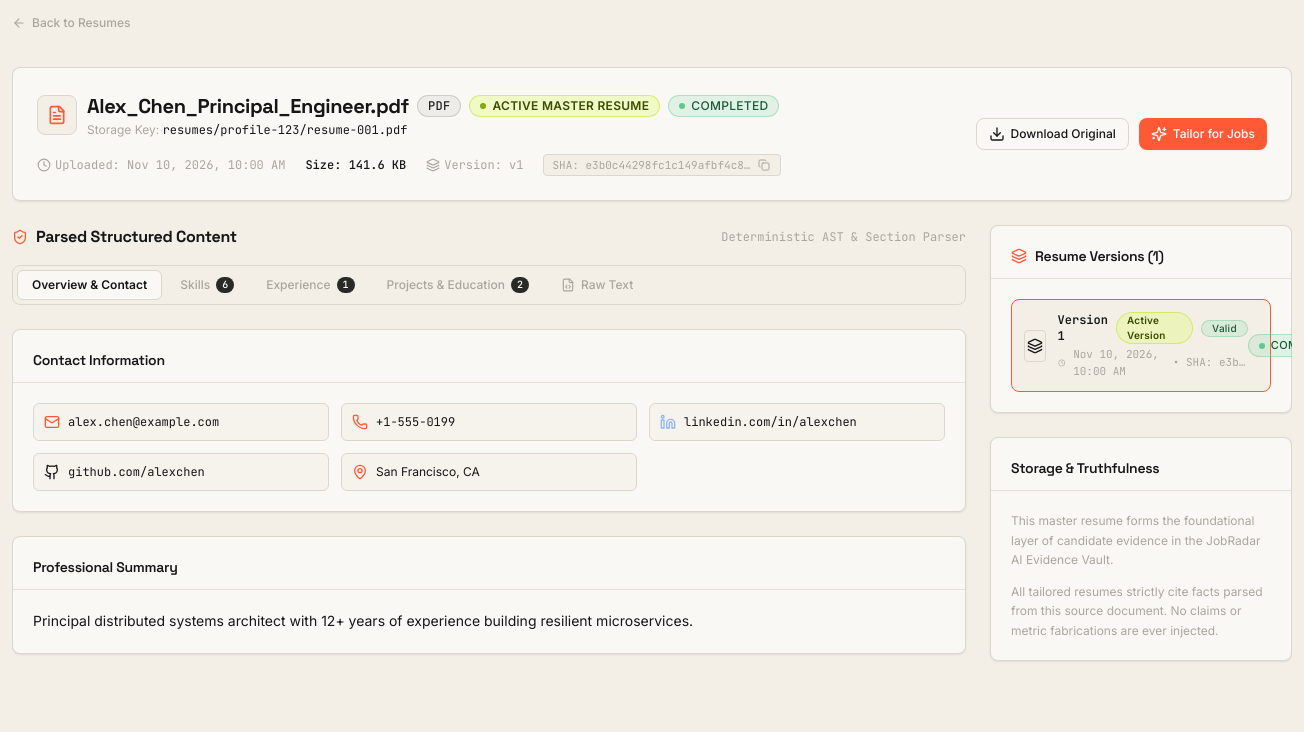
Test: ResumeDetailPage Integration › switches tabs to inspect parsed work experience
This screenshot has width=1304, height=732.
Click the button "Experience 1": (310, 285) [252,271,369,299]
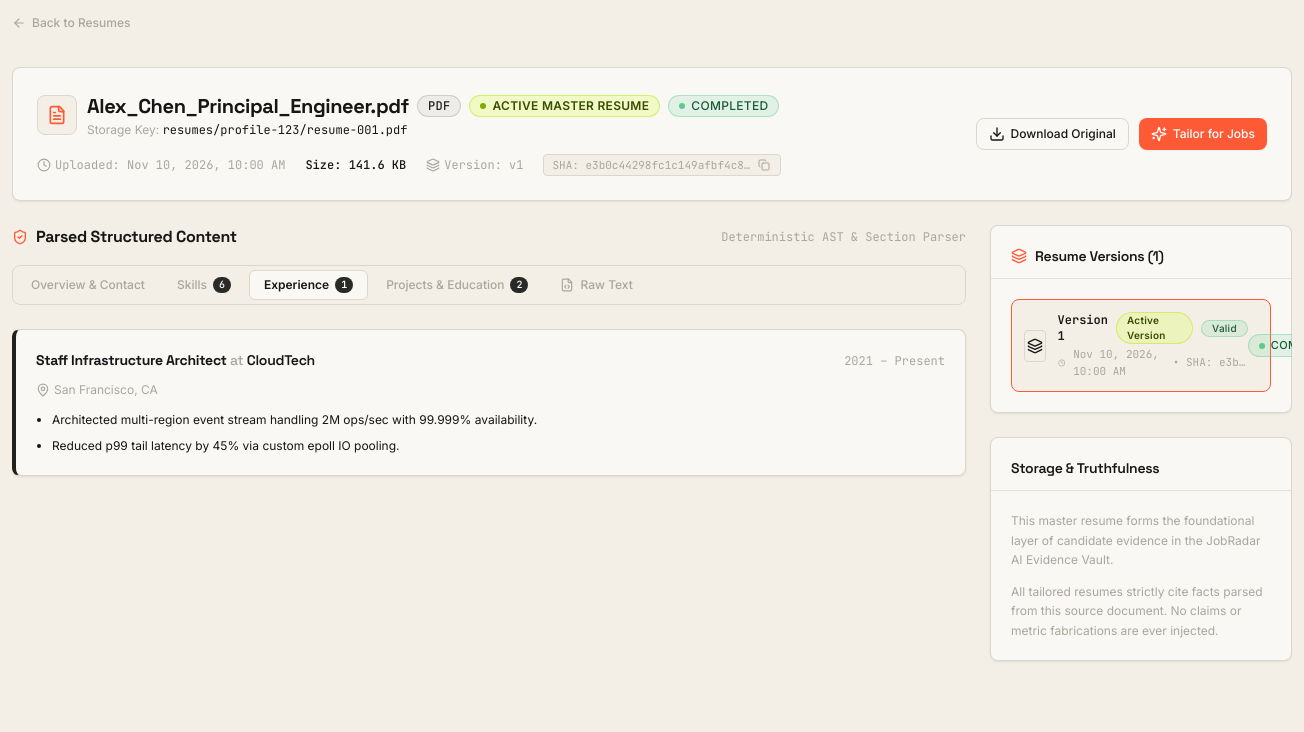
expect the heading "Staff Infrastructure Architect at CloudTech" is shown: met, box [36,350,315,370]
expect the text "CloudTech" is shown: met, box [247,351,315,369]
expect the list item "Architected multi-region event stream" is shown: met, box [52,412,537,427]
